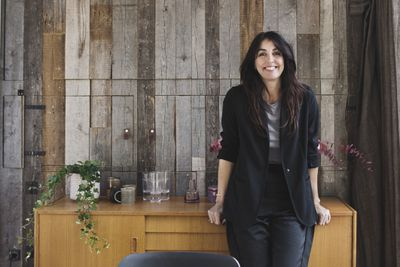F_W_suit jacket: (215, 82, 325, 218)
